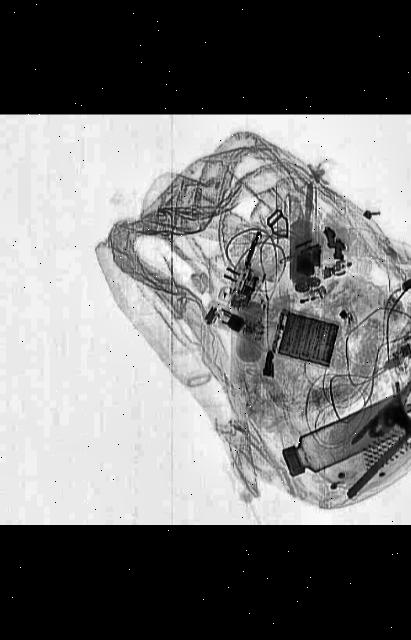Pliers: (353, 331, 411, 448)
